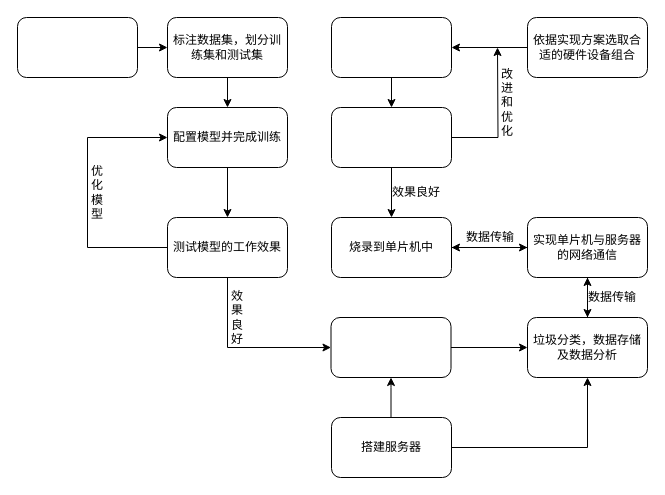
Image size: 665x495. Some labels were removed from this diagram. Here are the shapes that lost their labels. From the top down, the box of each, then its label:
(16, 16, 138, 78): 确定垃圾分类的类别，收集适量的相应种类的垃圾图片
(330, 16, 452, 78): 编写垃圾自动投入和数据采集的控制程序
(330, 106, 452, 168): 测试是否能够正确采集数据和自动投入垃圾
(330, 316, 451, 378): 将训练完成的模型配置到服务器上
